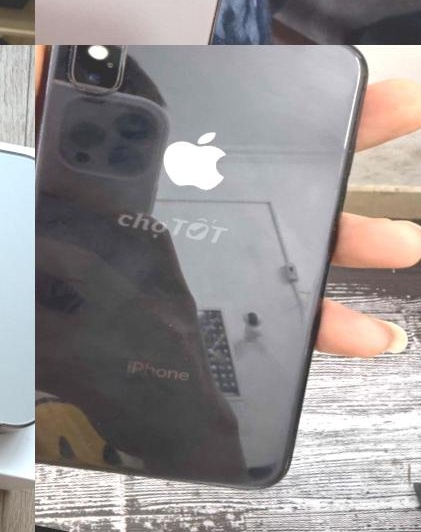scratch: (155, 302, 184, 347), (65, 432, 109, 457), (80, 408, 114, 435), (68, 78, 98, 103), (109, 45, 140, 63), (334, 45, 351, 51)
